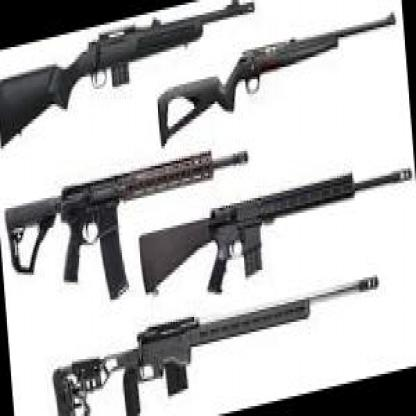rifle: (50, 267, 388, 416), (134, 151, 416, 312), (0, 0, 258, 119)
